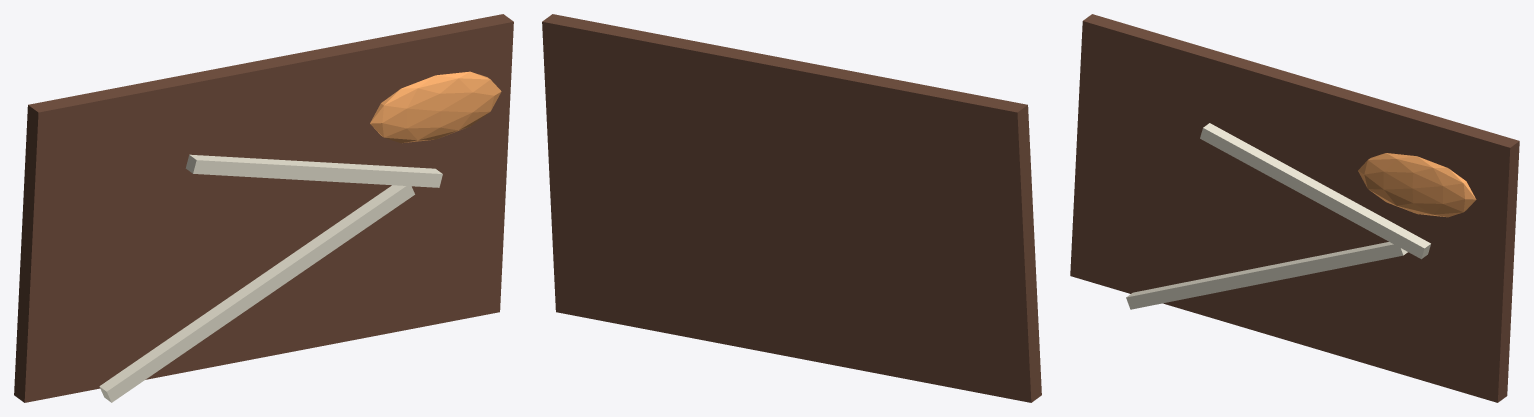
The model's file is 03_weathering_wear_overlay_3.glb.
The picture shows the model from 3 angles, left to right: view 1: azimuth 30°, elevation 25°; view 2: azimuth 150°, elevation 25°; view 3: azimuth 330°, elevation 25°; orthographic projection. The views are drawn at different scales.
Parts seen in each view (by area): view 1: wear_plate, scratch_a, rust_or_moss_spot, scratch_b; view 2: wear_plate; view 3: wear_plate, rust_or_moss_spot, scratch_b, scratch_a.
Part boxes in pixels (x1,y1,x2,y2): wear_plate: (14, 14, 513, 402); scratch_a: (99, 185, 414, 402); rust_or_moss_spot: (370, 71, 501, 143); scratch_b: (185, 154, 442, 187); wear_plate: (542, 14, 1041, 402); wear_plate: (1070, 14, 1519, 402); rust_or_moss_spot: (1358, 153, 1476, 217); scratch_b: (1200, 123, 1430, 259); scratch_a: (1126, 242, 1407, 309).
Size of the model in its own units: 1.34 by 0.8148 by 0.134.
